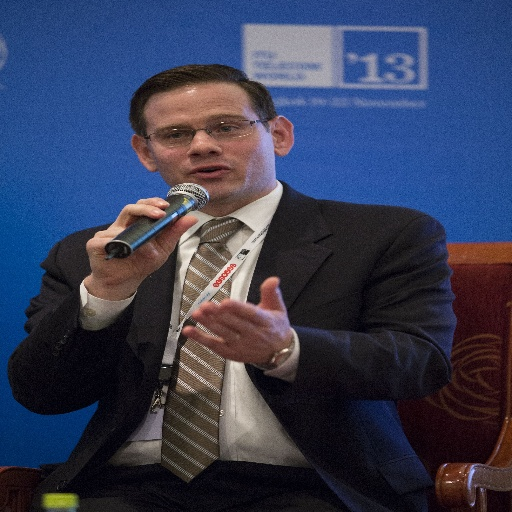hand: (180, 275, 294, 365), (83, 188, 207, 268)
